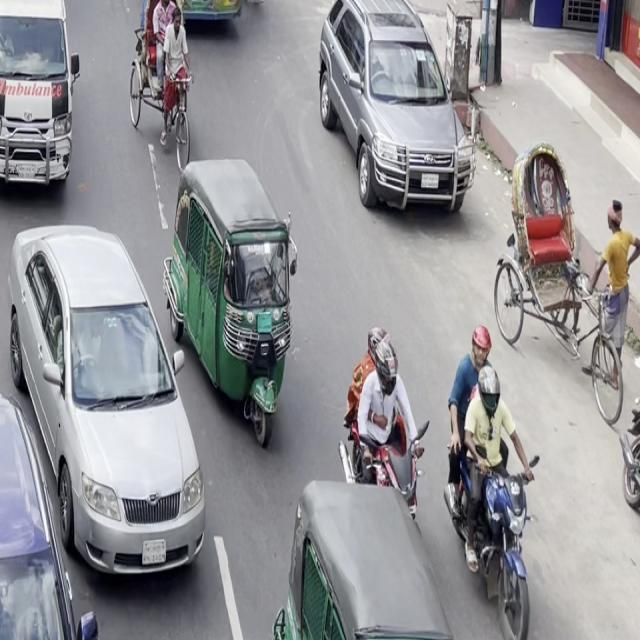bus: (112, 0, 257, 34), (0, 0, 61, 7)
car: (0, 210, 217, 600), (307, 0, 481, 231), (0, 364, 88, 636), (0, 0, 92, 208)
motorbike: (419, 326, 560, 634), (324, 327, 441, 534)
rickshaw: (164, 137, 317, 456)
